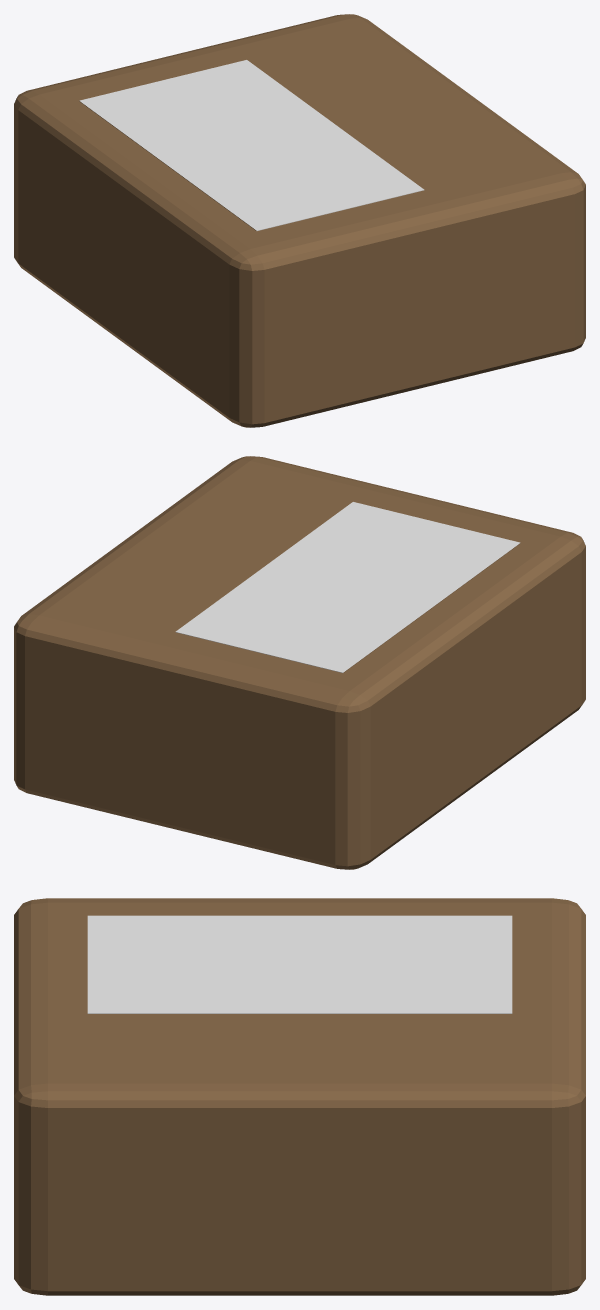
Rendered from Boite.fbx.
3 renders of one model, top to bottom at view 1: azimuth 30°, elevation 25°; view 2: azimuth 150°, elevation 25°; view 3: azimuth 270°, elevation 25°, orthographic. The views are drawn at different scales.
Visible parts, largest first — view 1: Boite; view 2: Boite; view 3: Boite.
Part boxes in pixels (bbox=[...]): Boite: bbox=[14, 14, 585, 427]; Boite: bbox=[14, 456, 585, 869]; Boite: bbox=[14, 898, 585, 1295].
Bounding box in the file's own units: 77.61 × 36.72 × 91.38.
